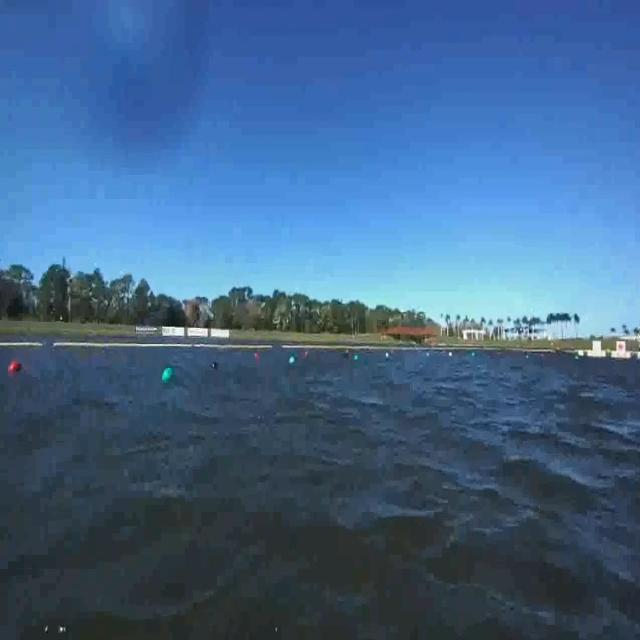green-buoy: (161, 366, 174, 383)
red-buoy: (10, 360, 22, 374)
